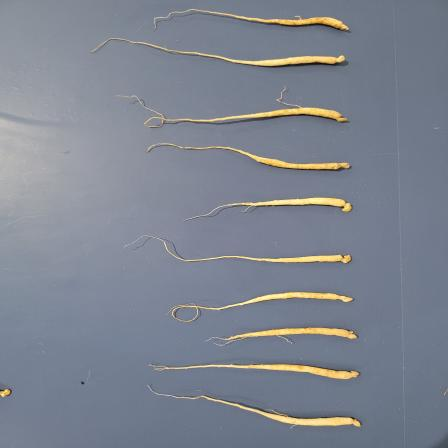Ginseng: (114, 84, 354, 128), (146, 384, 364, 430), (91, 38, 351, 68), (120, 233, 356, 265), (166, 291, 356, 324), (144, 142, 352, 172), (149, 9, 359, 33), (180, 196, 354, 222), (149, 362, 361, 382), (202, 327, 360, 347)
head: (328, 53, 347, 65), (332, 294, 354, 304), (334, 20, 351, 32), (338, 200, 352, 214), (342, 370, 360, 380), (346, 417, 362, 428), (336, 254, 352, 264), (342, 330, 358, 340), (333, 112, 348, 122), (333, 162, 351, 170)
